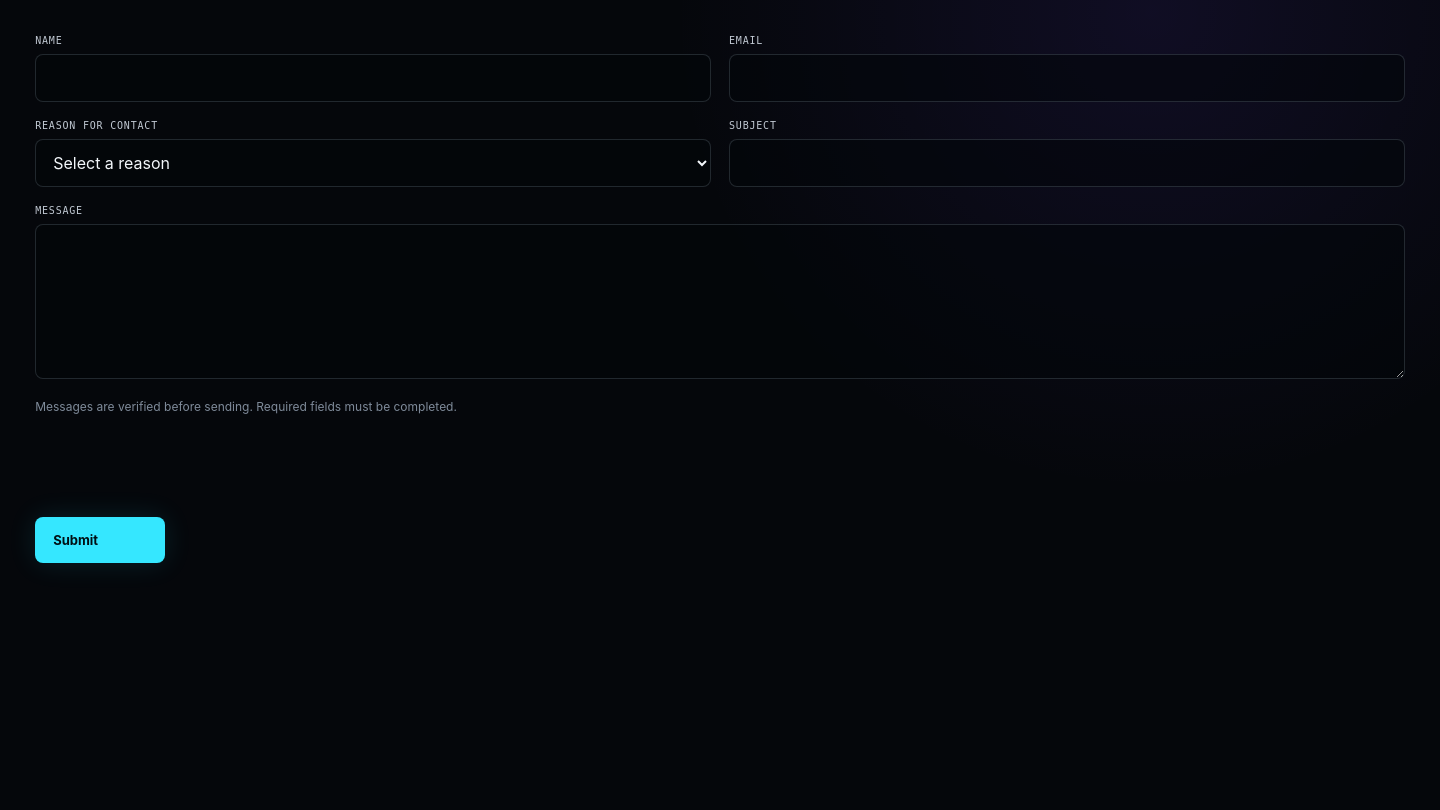
Test: ContactForm › rejects an invalid email and focuses the email field
This screenshot has width=1440, height=810.
In the field labelled "Name": (373, 78) [35,54,711,102], type "  Paul Tey  "
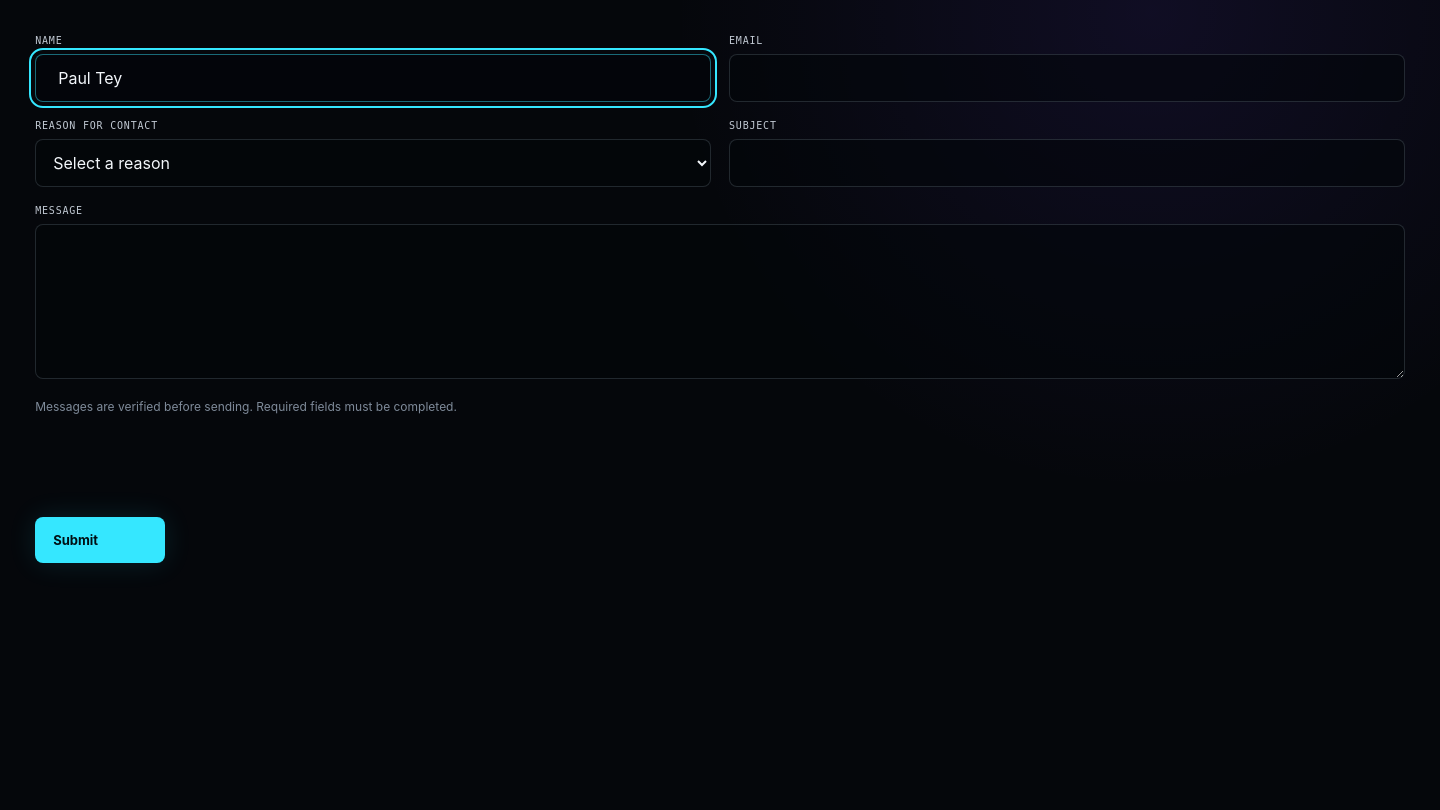
In the field labelled "Email": (1067, 78) [729,54,1405,102], type "invalid-email"
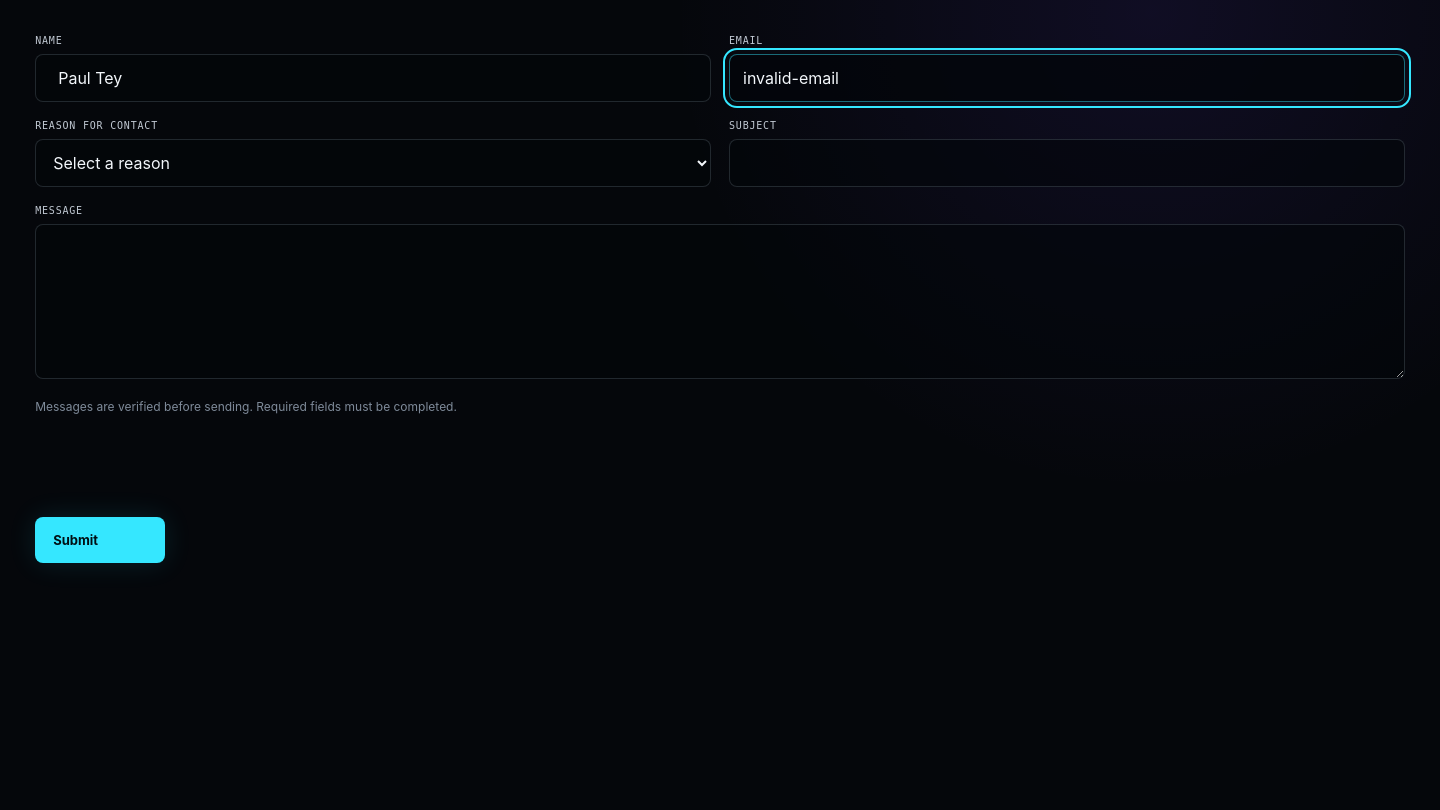
Select "Technical discussion" in the dropdown labelled "Reason for contact": (373, 163) [35,139,711,187]
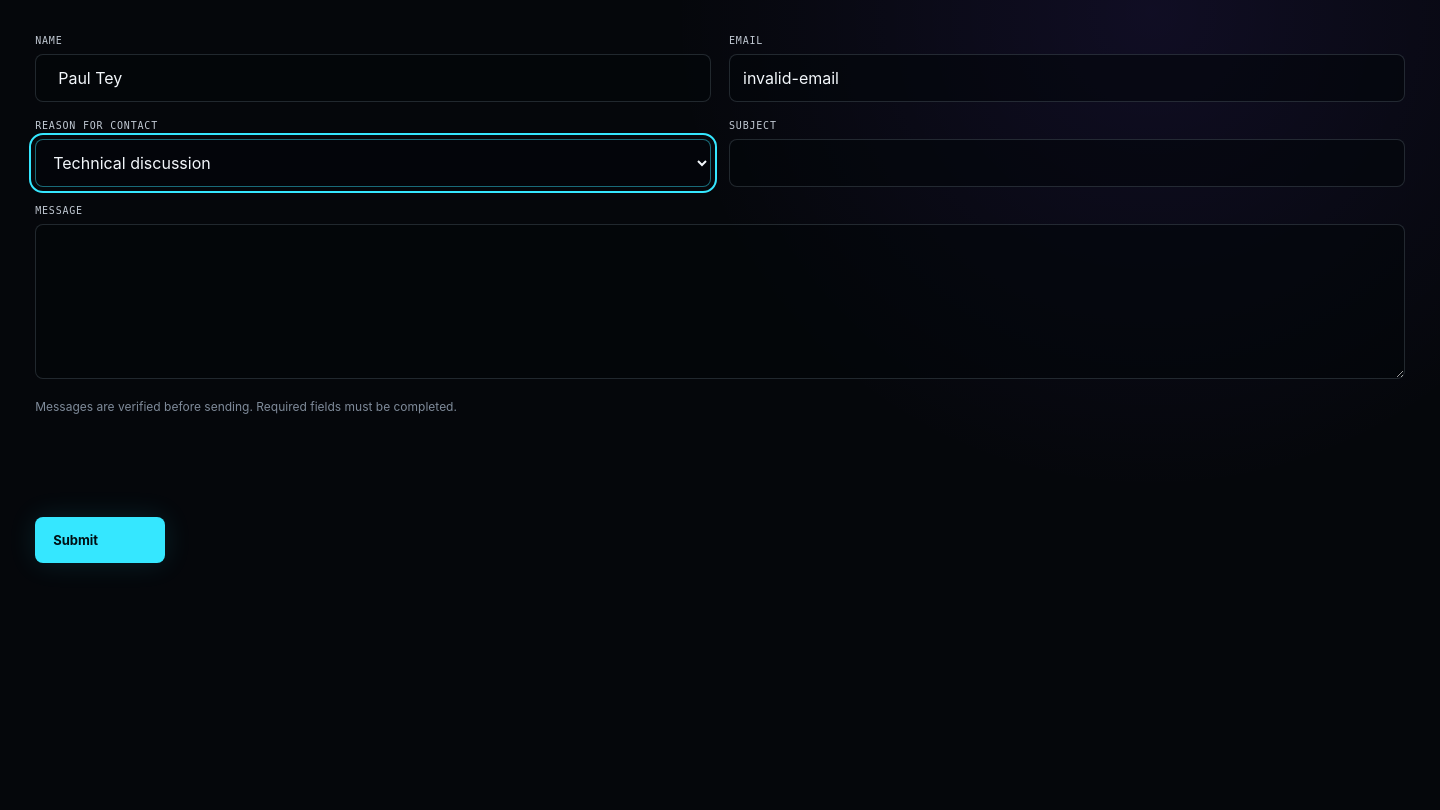
In the field labelled "Subject": (1067, 163) [729,139,1405,187], type "  Portfolio question  "
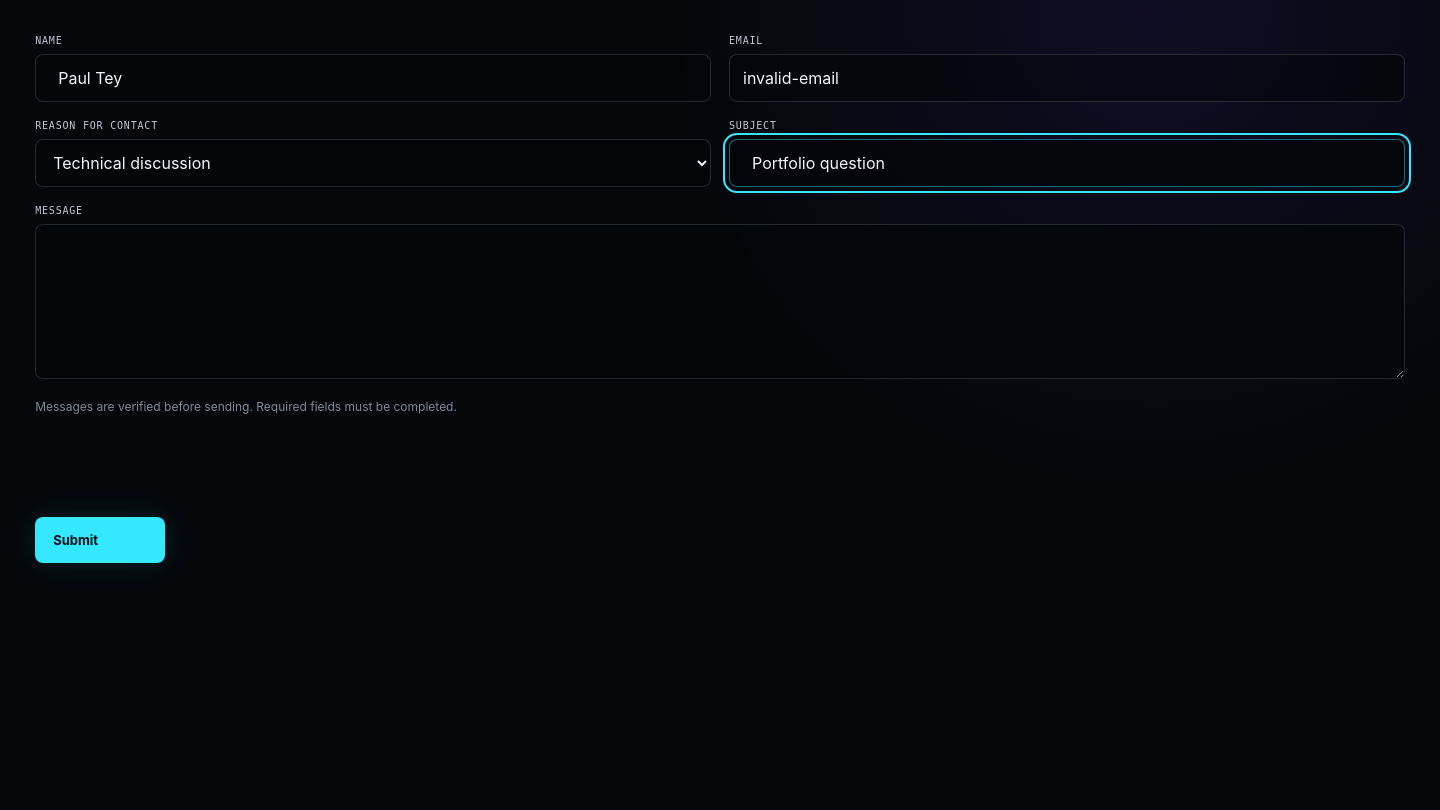
In the text box labelled "Message": (720, 302) [35,224,1405,379], type "  Test message  "
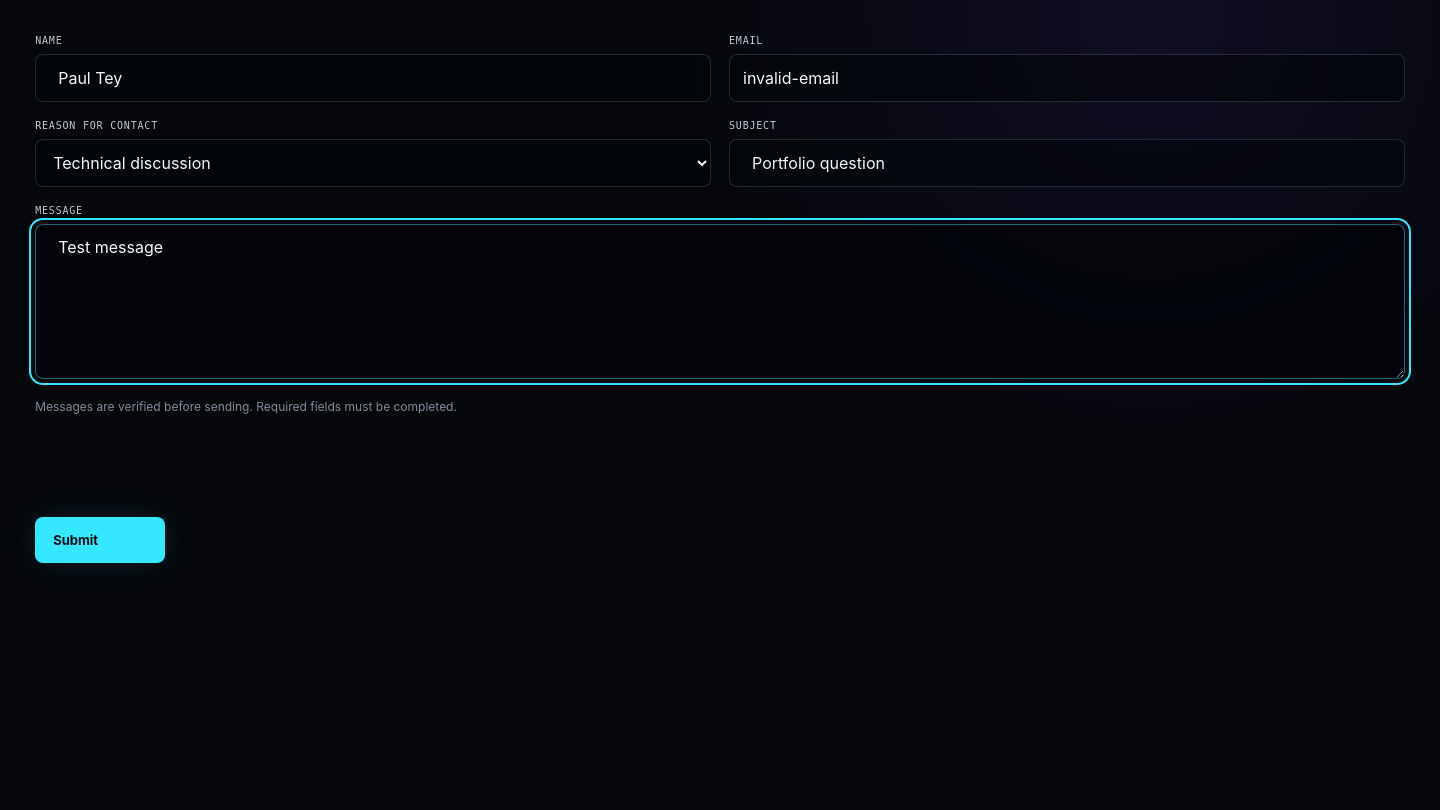
Click the button "Submit": (100, 540) [35,517,165,563]
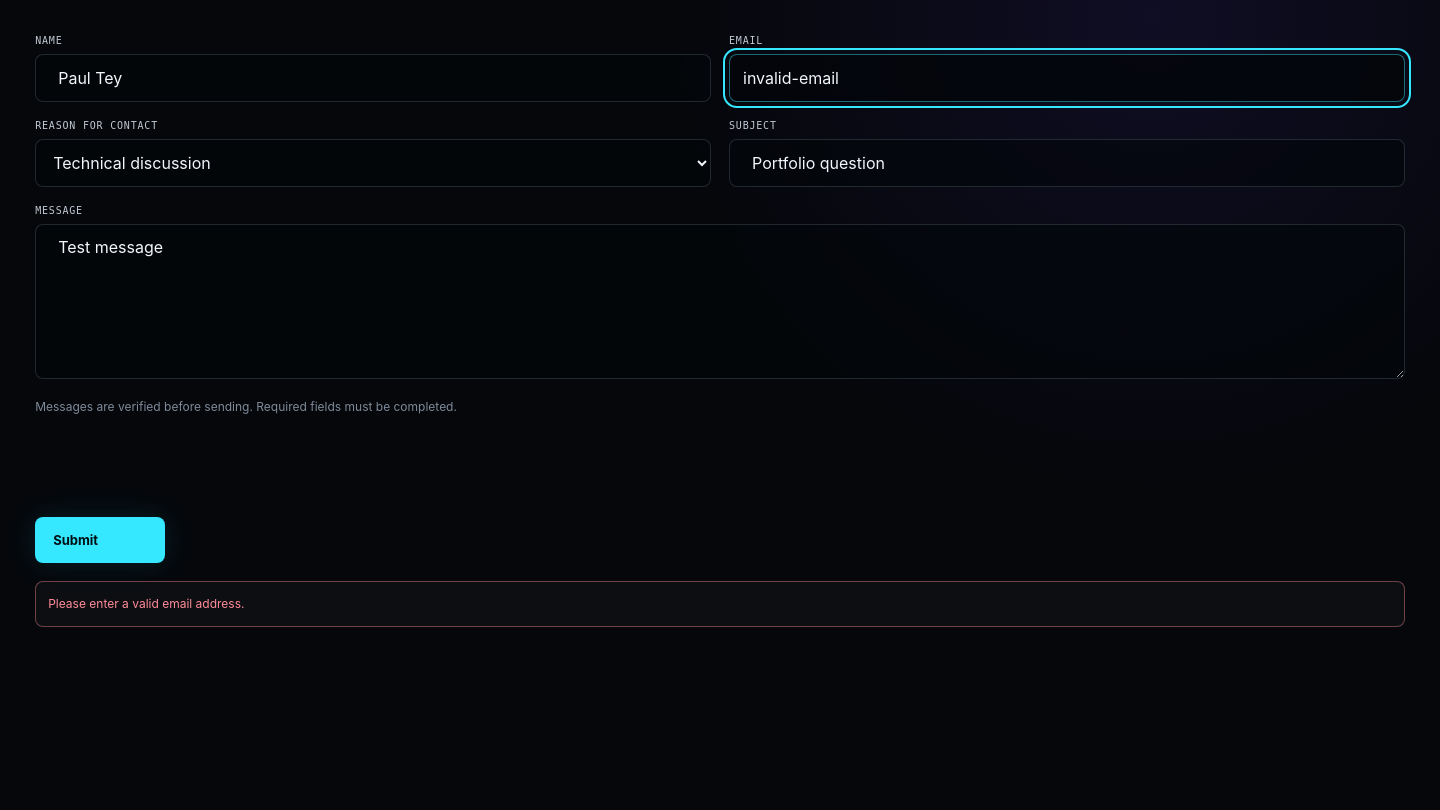
Now the message reads "Please enter a valid email address.", box [48,596,244,611]
